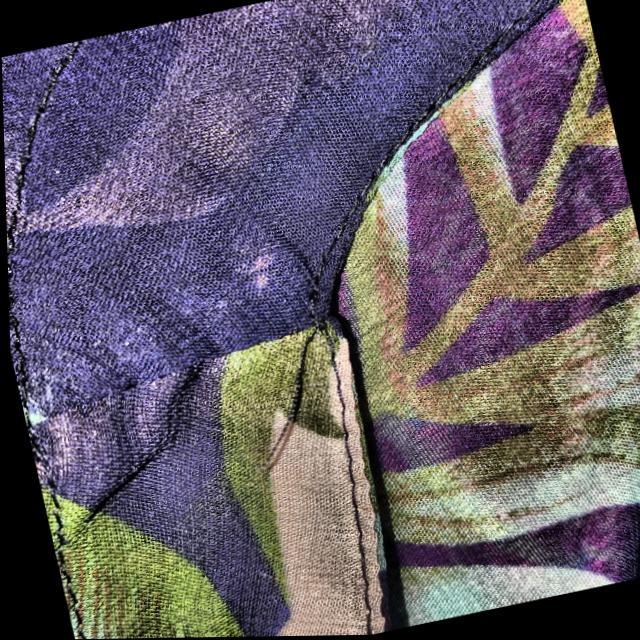Stitch: (192, 292, 413, 528)
